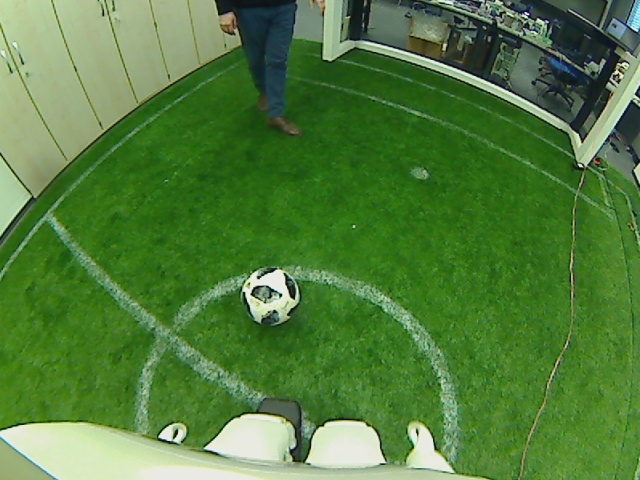ball: (240, 264, 302, 327)
